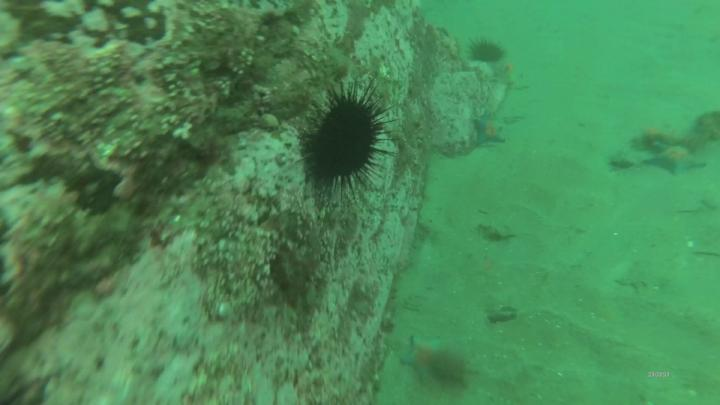echinus: (309, 101, 380, 177), (469, 44, 503, 61)
starfish: (645, 141, 708, 177), (403, 336, 443, 382), (476, 112, 505, 146)
